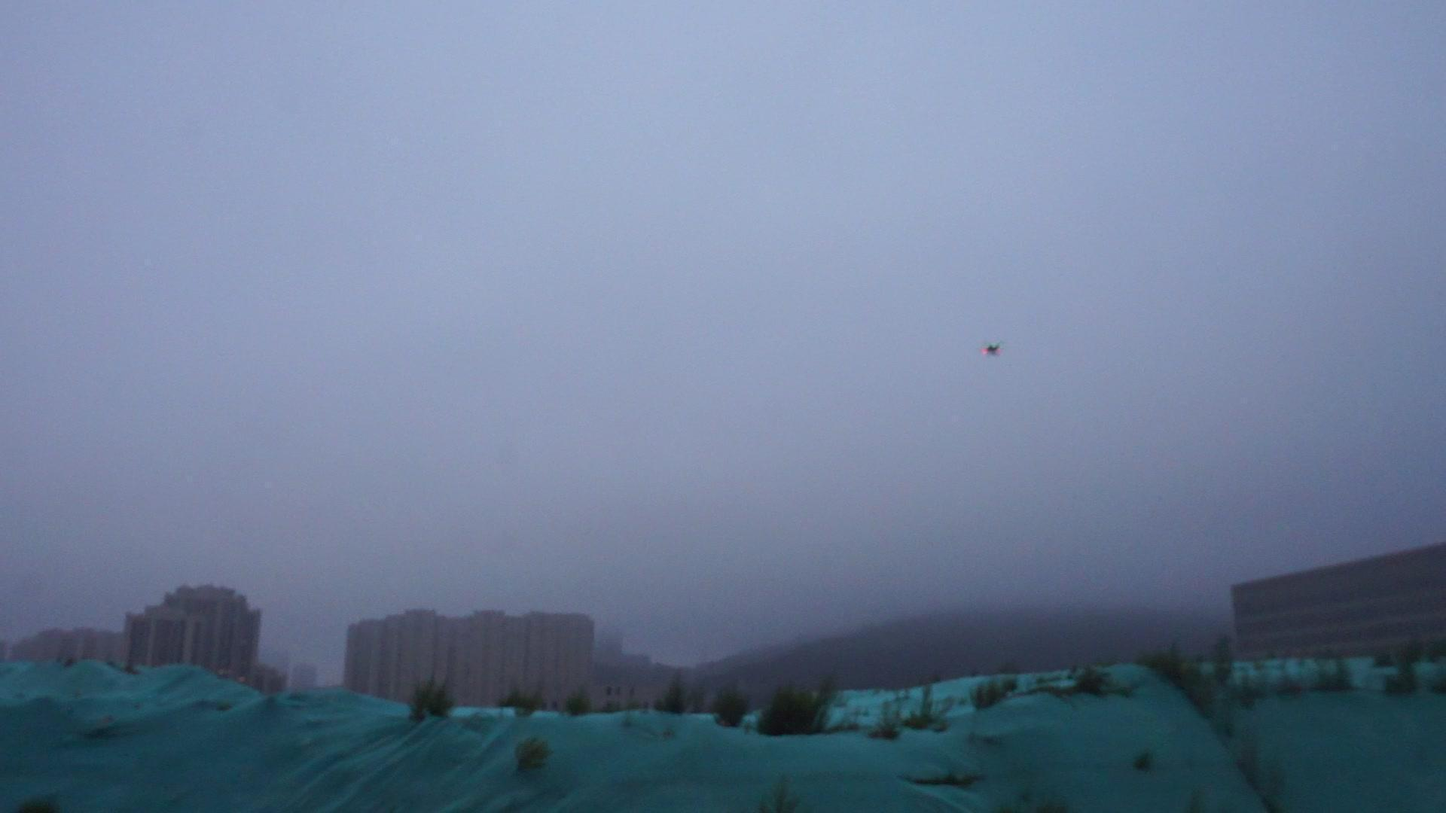UAV: (981, 343, 1005, 356)
